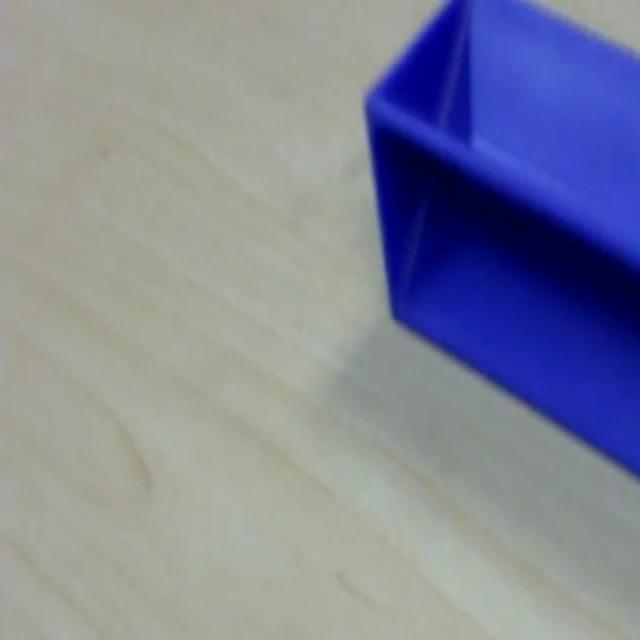blue_block: (362, 0, 638, 479)
